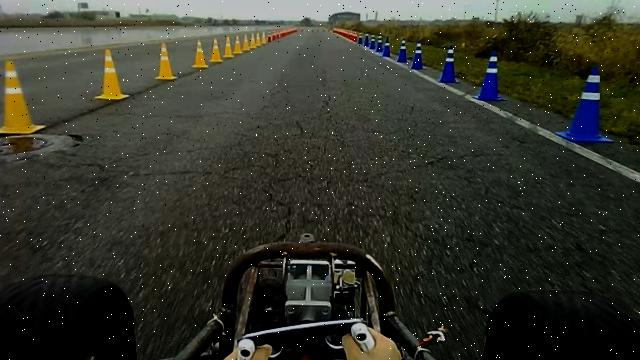blue cone: (555, 65, 615, 143), (473, 50, 506, 102), (438, 44, 459, 83), (410, 40, 427, 70), (397, 37, 408, 62), (382, 36, 391, 57)
yellow cone: (0, 60, 46, 135), (94, 48, 130, 101), (154, 42, 178, 80), (192, 38, 208, 68), (210, 37, 222, 63), (223, 36, 234, 58)
